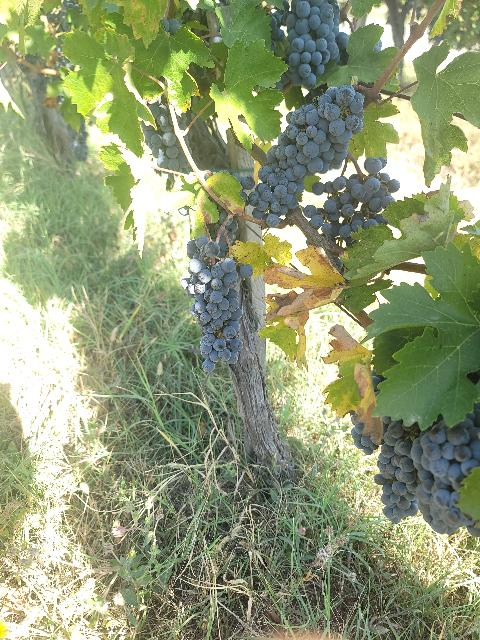grapes: (241, 85, 364, 228), (181, 235, 252, 371), (304, 158, 400, 246), (416, 404, 480, 535), (280, 0, 349, 90), (375, 416, 419, 524), (142, 102, 190, 171)
